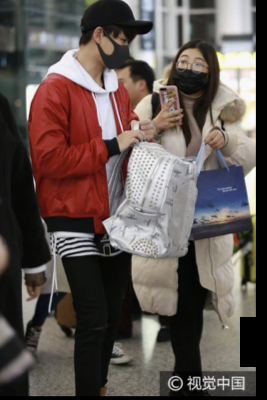with_mask: (171, 53, 209, 95), (102, 36, 130, 72)
